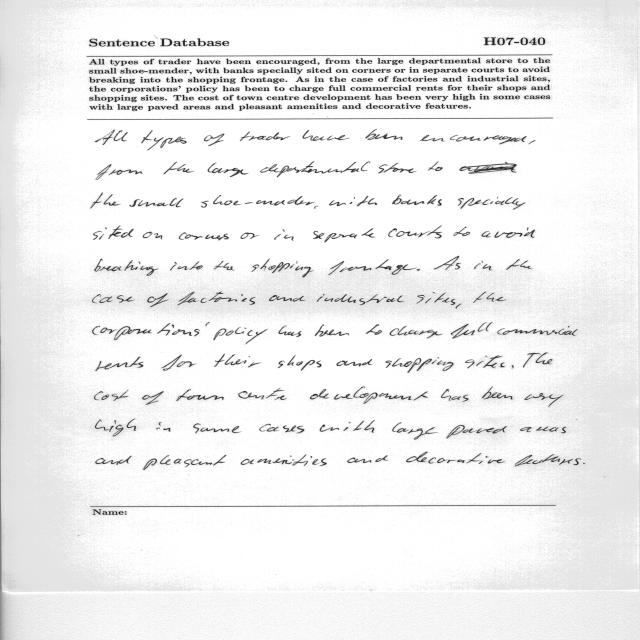word: (93, 322, 226, 340), (310, 387, 428, 404), (260, 161, 369, 177), (201, 195, 315, 208), (329, 259, 417, 275), (406, 451, 505, 464), (143, 455, 226, 470), (252, 259, 314, 278), (178, 292, 256, 306), (95, 259, 159, 276), (386, 357, 454, 373), (241, 454, 326, 466), (420, 135, 527, 144), (317, 294, 404, 305), (313, 228, 375, 243), (141, 130, 187, 150), (458, 197, 525, 210), (446, 425, 507, 439), (497, 326, 578, 336), (392, 422, 437, 440), (515, 454, 581, 466), (96, 164, 143, 180), (320, 420, 375, 433), (226, 328, 268, 345), (388, 226, 442, 239), (451, 322, 492, 339), (95, 419, 136, 436), (459, 162, 517, 174), (96, 357, 143, 371), (278, 355, 321, 370), (390, 326, 442, 338), (94, 225, 134, 240), (215, 354, 261, 367), (238, 388, 287, 400), (176, 389, 224, 401), (208, 163, 249, 177), (161, 355, 196, 371), (392, 195, 442, 206), (525, 393, 564, 407), (482, 228, 535, 238), (465, 355, 505, 368), (303, 130, 350, 141), (417, 292, 456, 305), (95, 130, 128, 145), (130, 198, 184, 207), (329, 196, 377, 206), (193, 424, 240, 434), (240, 132, 290, 141), (315, 324, 349, 337), (91, 193, 120, 208), (366, 129, 403, 140), (523, 353, 552, 367), (260, 424, 305, 433), (179, 233, 229, 241), (433, 256, 461, 270), (378, 163, 416, 173), (93, 294, 135, 303), (95, 390, 129, 401), (482, 387, 513, 399), (441, 389, 469, 402), (473, 292, 506, 303), (164, 162, 194, 174), (347, 455, 388, 463), (96, 456, 132, 465), (520, 427, 566, 434), (142, 391, 164, 405), (170, 262, 203, 271), (506, 259, 533, 270), (147, 293, 168, 307), (269, 295, 305, 302), (337, 360, 373, 367), (279, 326, 301, 337), (204, 134, 224, 146), (274, 230, 294, 241), (214, 261, 234, 270), (366, 324, 382, 335), (474, 262, 492, 271), (143, 232, 163, 240), (453, 227, 470, 236), (156, 422, 171, 432), (428, 162, 443, 171), (241, 232, 259, 239), (456, 304, 462, 309), (529, 141, 536, 145), (314, 206, 318, 209), (512, 365, 514, 369), (417, 269, 420, 271), (583, 463, 585, 464)
